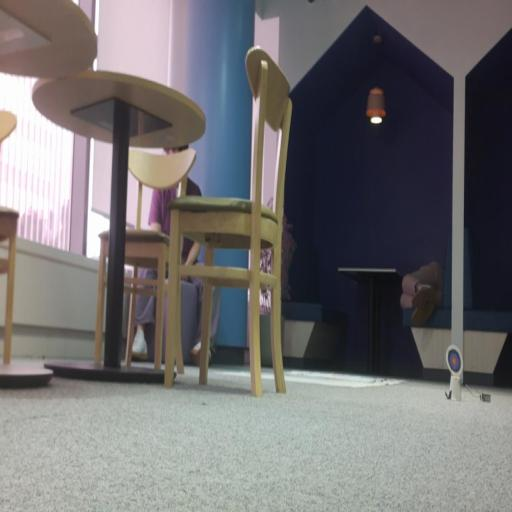target: (447, 345, 462, 378)
